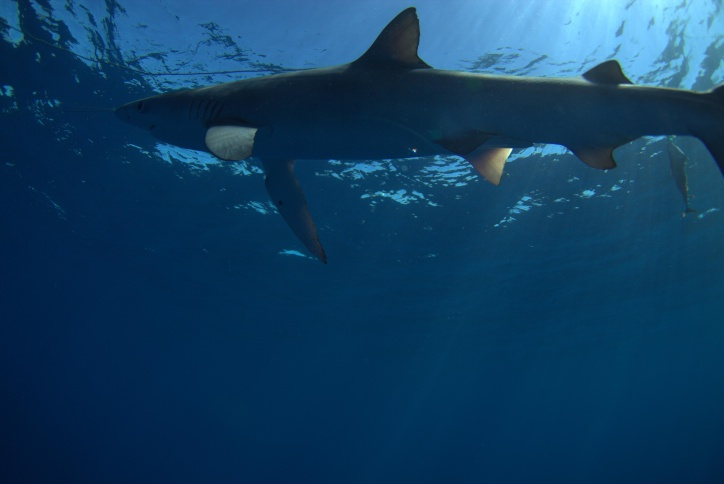Azul: (77, 3, 722, 281)
